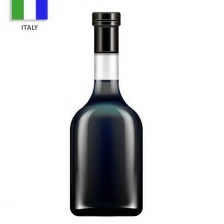bottle: (66, 8, 149, 218)
